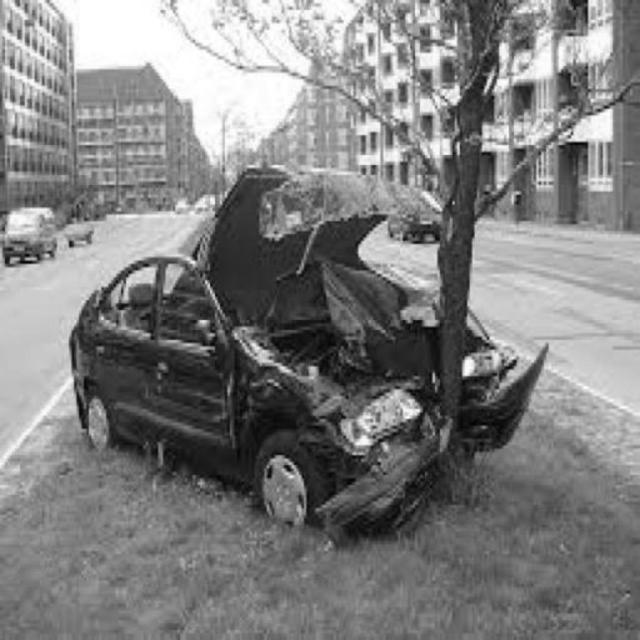accident: (71, 214, 505, 514)
vehicle: (5, 207, 59, 265)
